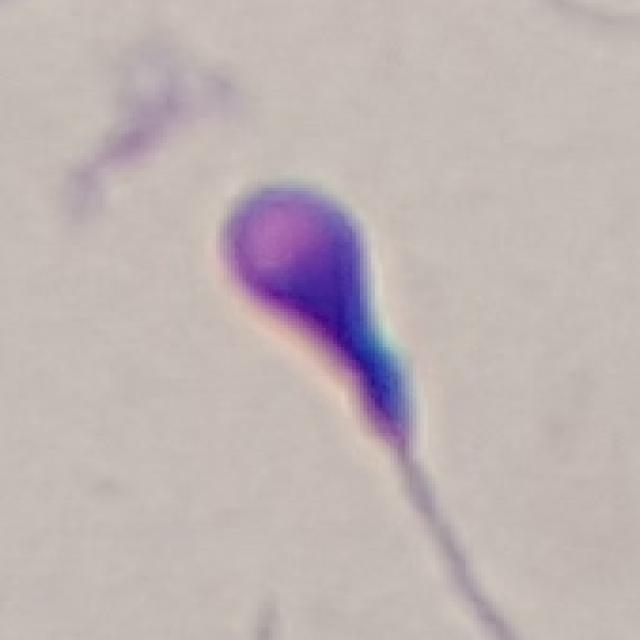abnormal sperm: (195, 149, 567, 634)
